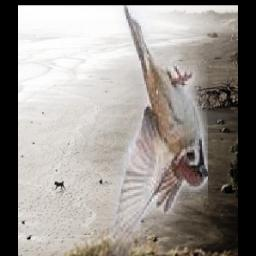Sparrow: (110, 5, 209, 256)
